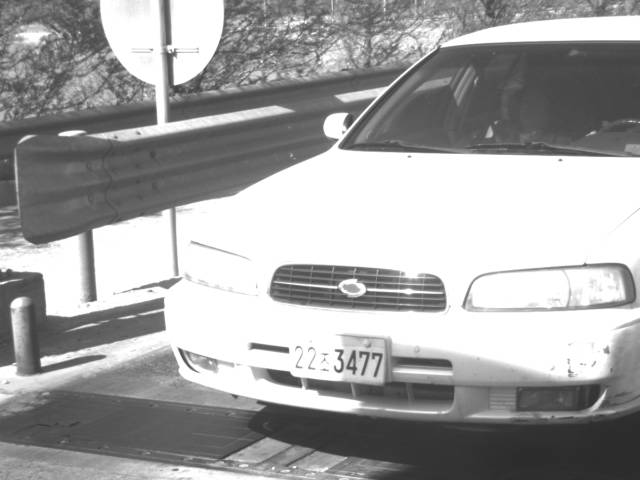car: (159, 12, 640, 431)
plate: (286, 328, 390, 387)
